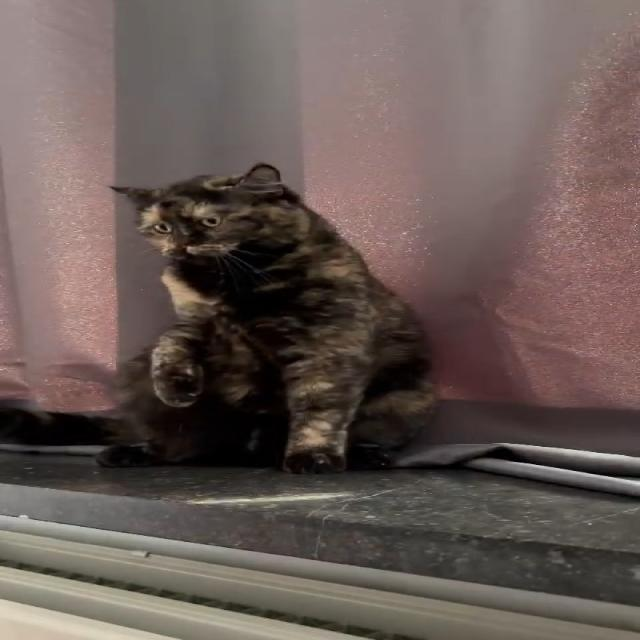authorized: (97, 162, 440, 474)
